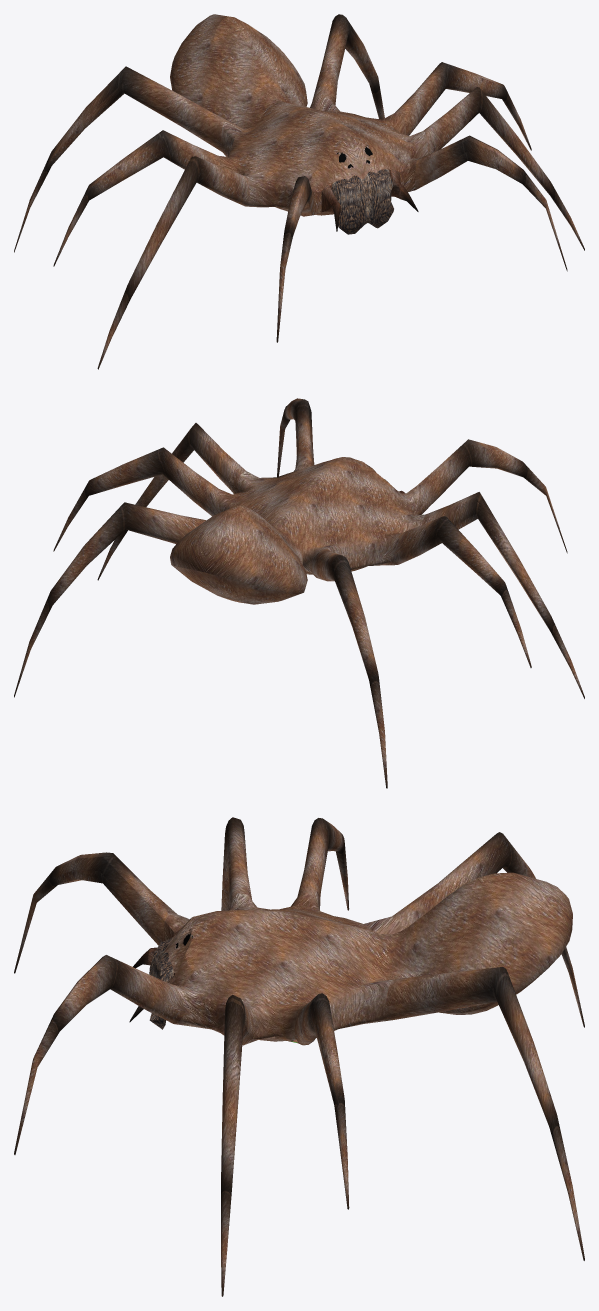
File: spider.fbx
3 renders of one model, top to bottom at view 1: azimuth 30°, elevation 25°; view 2: azimuth 150°, elevation 25°; view 3: azimuth 270°, elevation 25°, orthographic. The views are drawn at different scales.
Parts seen in each view (by area): view 1: spider; view 2: spider; view 3: spider.
Part boxes in pixels (<box>): spider: <box>14,14,584,369</box>; spider: <box>14,398,584,788</box>; spider: <box>14,817,584,1296</box>.
Size of the model in its own units: 63.09 by 26.12 by 49.92.
